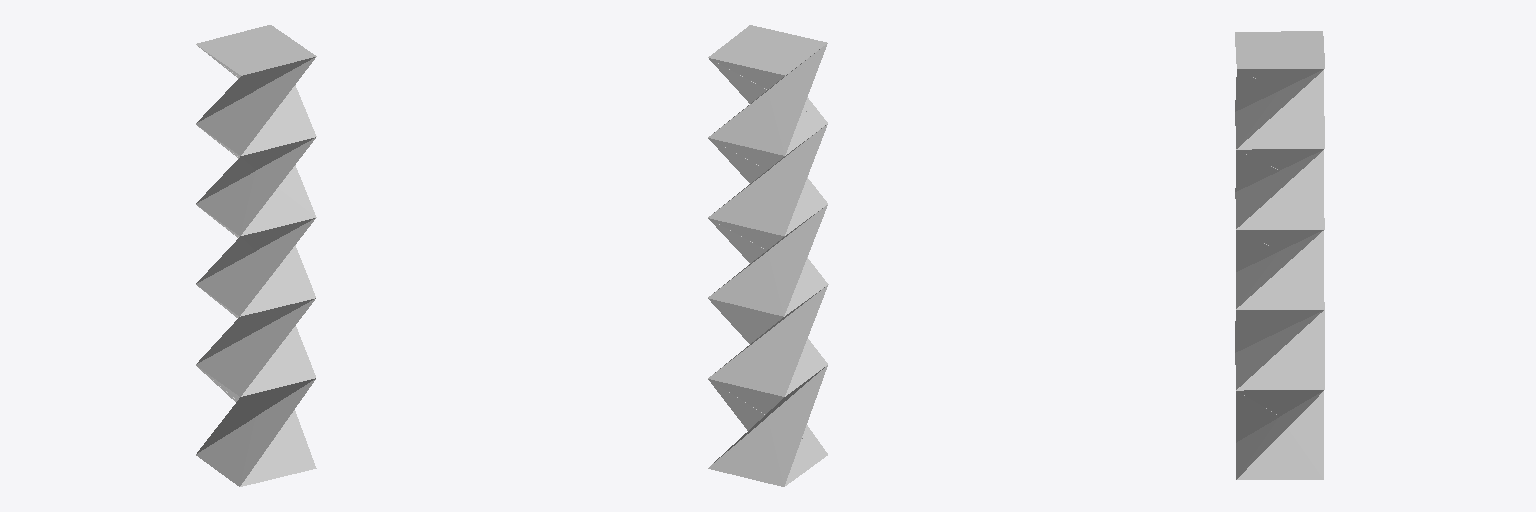
File: FencePostV1.obj
3 views of the same model, side by side, from view 1: azimuth 30°, elevation 25°; view 2: azimuth 150°, elevation 25°; view 3: azimuth 270°, elevation 25° (orthographic).
Parts seen in each view (by area): view 1: pCube10; view 2: pCube10; view 3: pCube10.
Part boxes in pixels (x1,y1,x2,y2): pCube10: (196,25,316,486); pCube10: (708,25,828,486); pCube10: (1235,31,1324,479).
Size of the model in its own units: 1.02 by 5.12 by 1.02.